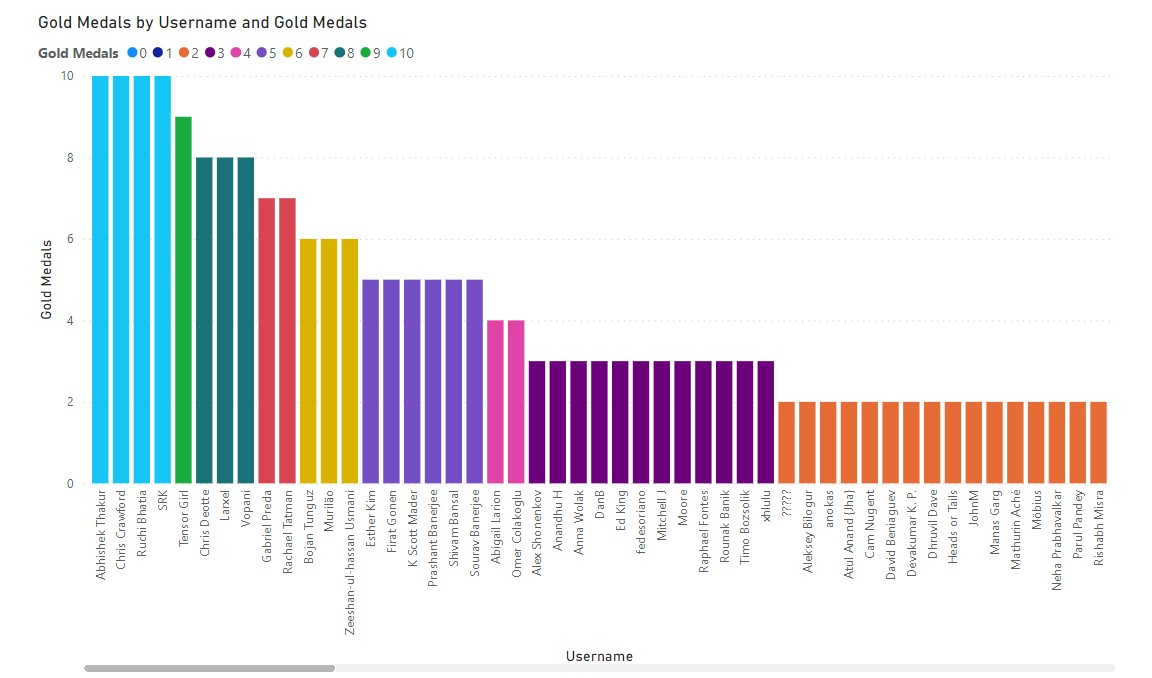

Layout of this report page (visuals, bound fields, positions):
{"tool":"powerbi","page":{"name":"Page 3","canvas":[1280,720],"ordinal":2},"visuals":[{"type":"columnChart","fields":{"Category":["Kaggle Datasets Ranking.Username"],"Series":["Kaggle Datasets Ranking.Gold Medals"],"Y":["Kaggle Datasets Ranking.Gold Medals"]},"box":[87.9,34.3,1063,651],"z":0}]}

Visuals, with their boxes on the page's 1280x720 design canvas (x1, y1, x2, y2). These are canvas units, not pixel positions in the 1152x678 screenshot, which may show the page scaled, cropped or inside an application window:
columnChart - Kaggle Datasets Ranking.Username x Kaggle Datasets Ranking.Gold Medals: bbox=[88, 34, 1151, 685]
